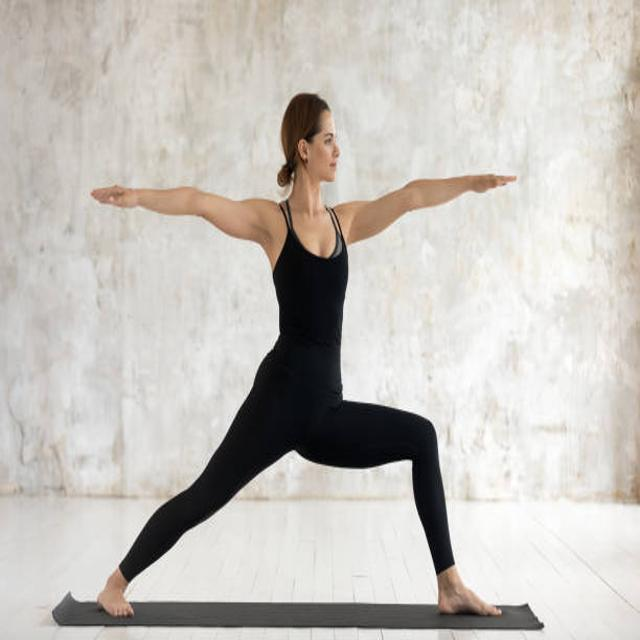Warrior_II: (93, 84, 516, 618)
